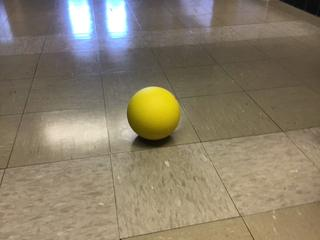power_cell: (124, 82, 188, 145)
